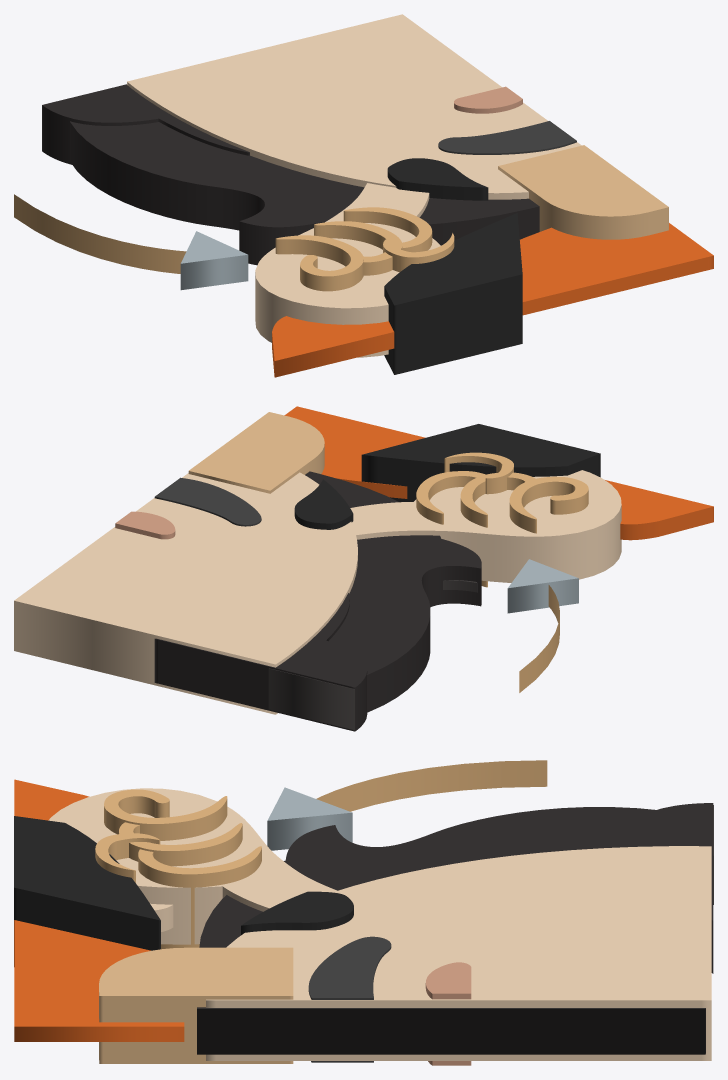
The model's file is emoji_u1f9cf_1f3fb.glb.
3 views of the same model, one above another, from view 1: azimuth 30°, elevation 25°; view 2: azimuth 150°, elevation 25°; view 3: azimuth 270°, elevation 25° (orthographic). The views are drawn at different scales.
Parts seen in each view (by area): view 1: emoji_u1f9cf_1f3fb; view 2: emoji_u1f9cf_1f3fb; view 3: emoji_u1f9cf_1f3fb.
Part boxes in pixels (x1=…): emoji_u1f9cf_1f3fb: x1=14, y1=14, x2=713, y2=377; emoji_u1f9cf_1f3fb: x1=14, y1=406, x2=713, y2=731; emoji_u1f9cf_1f3fb: x1=14, y1=760, x2=713, y2=1065.
Size of the model in its own units: 0.0295 by 0.005 by 0.0335.
